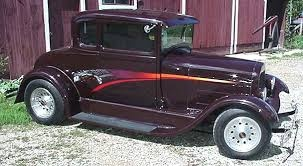Scratch: (71, 67, 109, 84)
